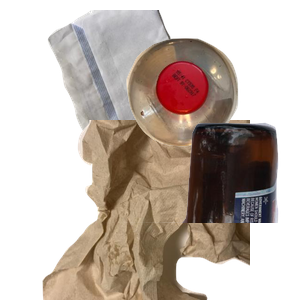glass: (87, 120, 300, 300)
paper: (45, 10, 251, 190)
plastic: (124, 36, 300, 175)
trash: (40, 120, 280, 300)
